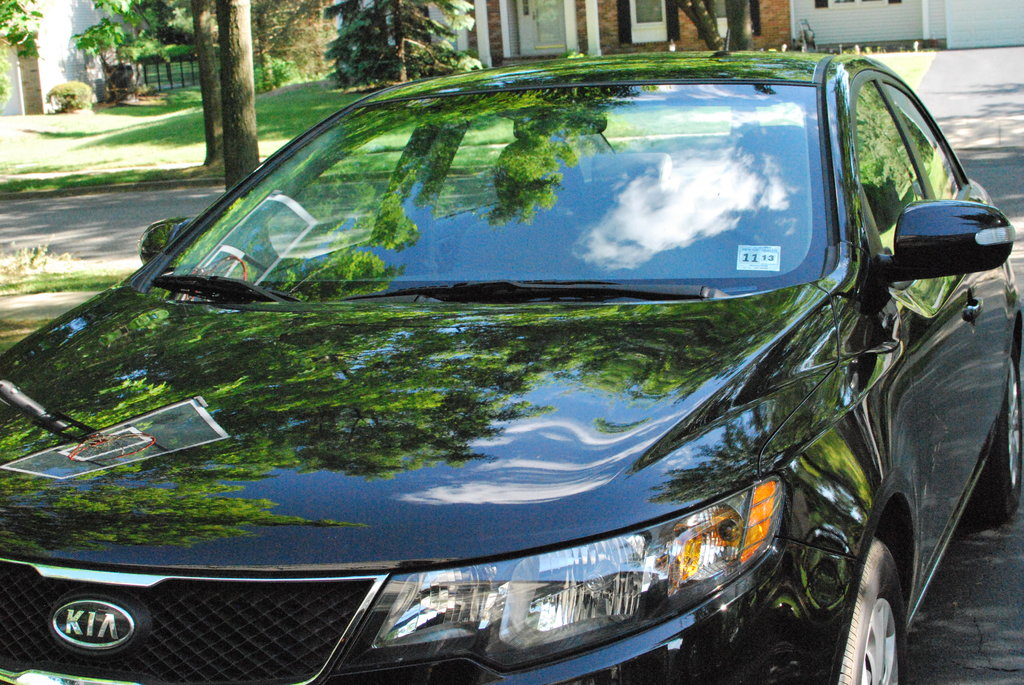Tree: (69, 0, 483, 259), (0, 0, 44, 108), (667, 0, 755, 51)
